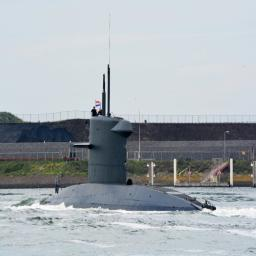submarine: (40, 63, 218, 210)
